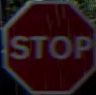Stop: (2, 0, 95, 94)
